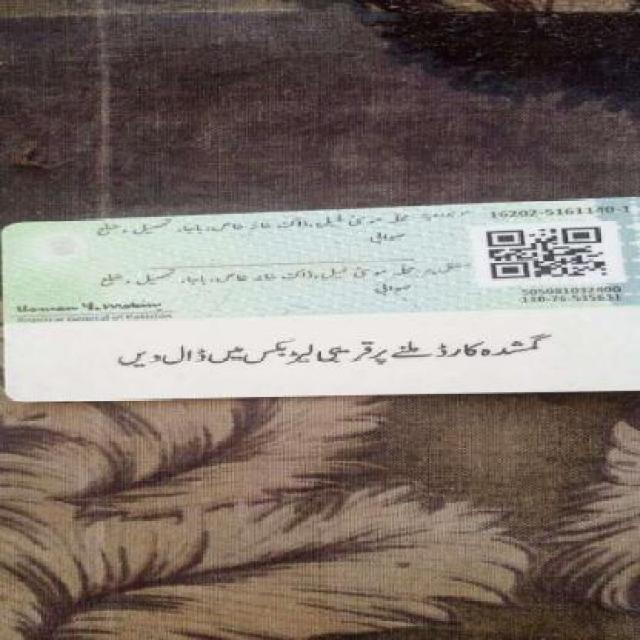Back: (7, 194, 636, 406)
